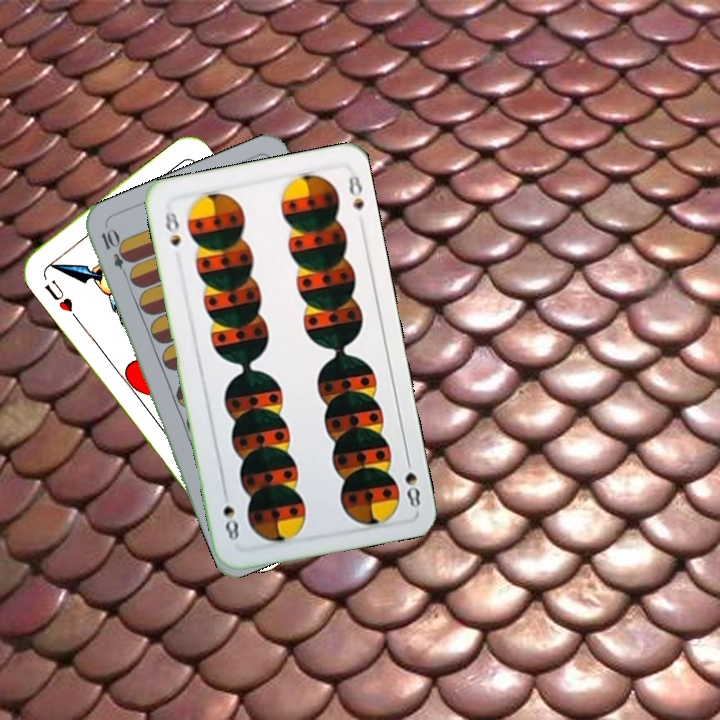E10: (97, 225, 133, 282)
HU: (40, 275, 76, 315)
S8: (400, 451, 423, 511), (161, 207, 183, 249)
